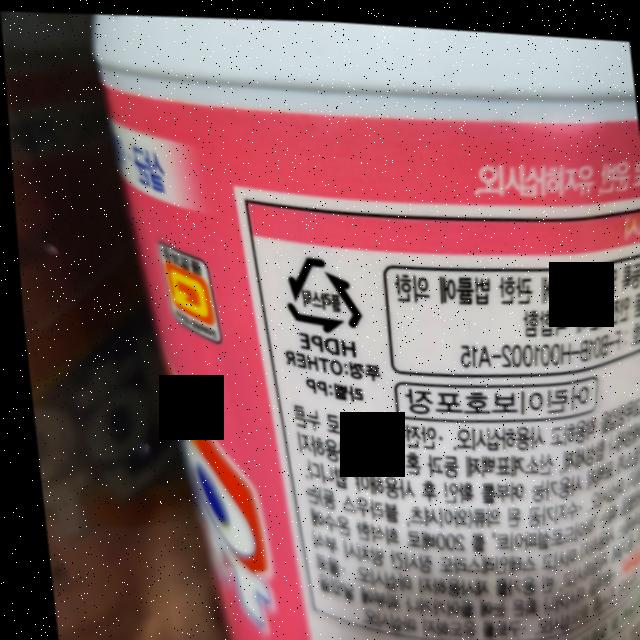Plastic: (273, 242, 362, 335)
